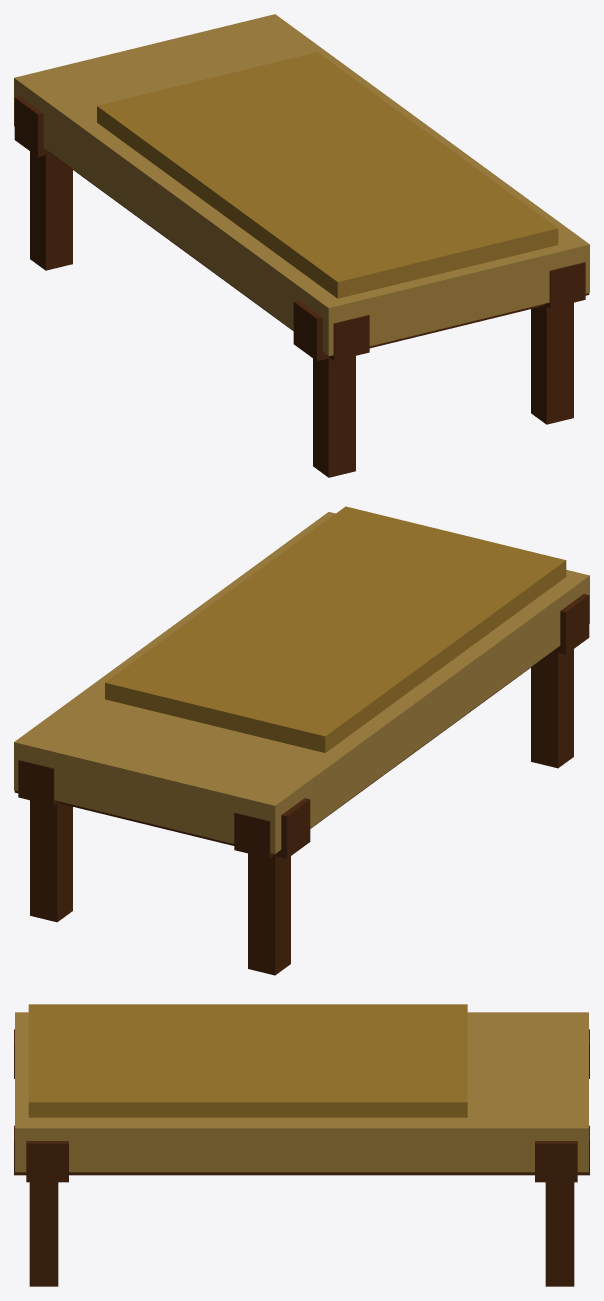
The model's file is MBS_StrawBed.fbx.
3 views of the same model, one above another, from view 1: azimuth 30°, elevation 25°; view 2: azimuth 150°, elevation 25°; view 3: azimuth 270°, elevation 25° (orthographic). The views are drawn at different scales.
Parts seen in each view (by area): view 1: MBS_City_StrawBed.001; view 2: MBS_City_StrawBed.001; view 3: MBS_City_StrawBed.001.
Part boxes in pixels (x1=…): MBS_City_StrawBed.001: x1=14, y1=14, x2=589, y2=477; MBS_City_StrawBed.001: x1=14, y1=506, x2=589, y2=975; MBS_City_StrawBed.001: x1=14, y1=1004, x2=589, y2=1286.
Bounding box in the file's own units: 100 × 68.42 × 202.
